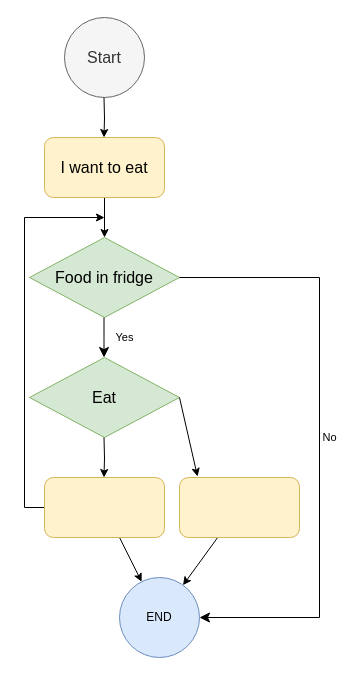
This 354x675 diagram has some shape labels left out. Each missing label, with the box of its shape:
Hungry: (44, 476, 164, 538)
Not Hungry: (178, 476, 300, 538)
